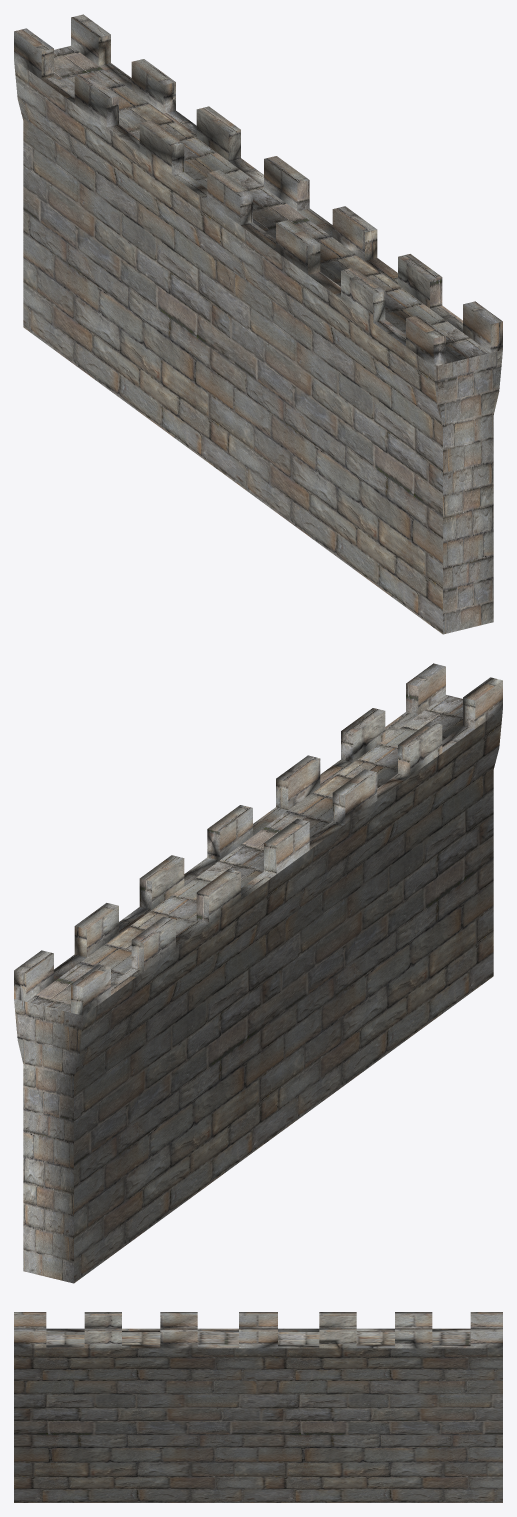
The picture shows the model from 3 angles, top to bottom: view 1: azimuth 30°, elevation 25°; view 2: azimuth 150°, elevation 25°; view 3: azimuth 270°, elevation 25°; orthographic projection. The views are drawn at different scales.
Visible parts, largest first — view 1: Wall_pCube1; view 2: Wall_pCube1; view 3: Wall_pCube1.
Boxes of the visible parts, <box> form: Wall_pCube1: <box>14,14,502,634</box>; Wall_pCube1: <box>14,663,502,1283</box>; Wall_pCube1: <box>14,1312,502,1502</box>.
Bounding box in the file's own units: 2.08 × 8.52 × 21.72.
1 material, 1 textured.
